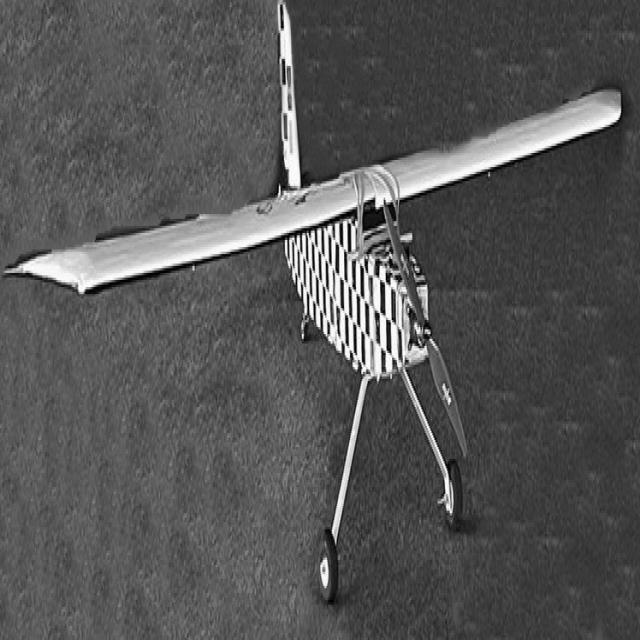iha: (6, 0, 621, 598)
